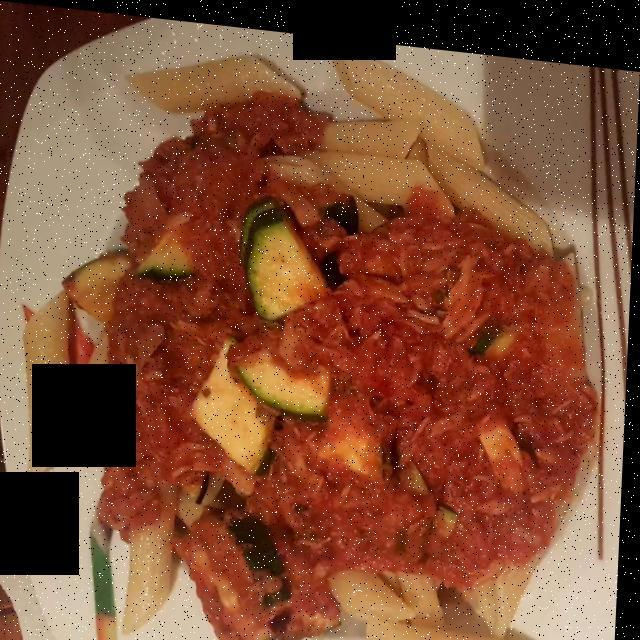pasta: (38, 58, 591, 640)
tomato-sauce: (65, 90, 590, 640)
zucchini: (61, 192, 542, 640)
